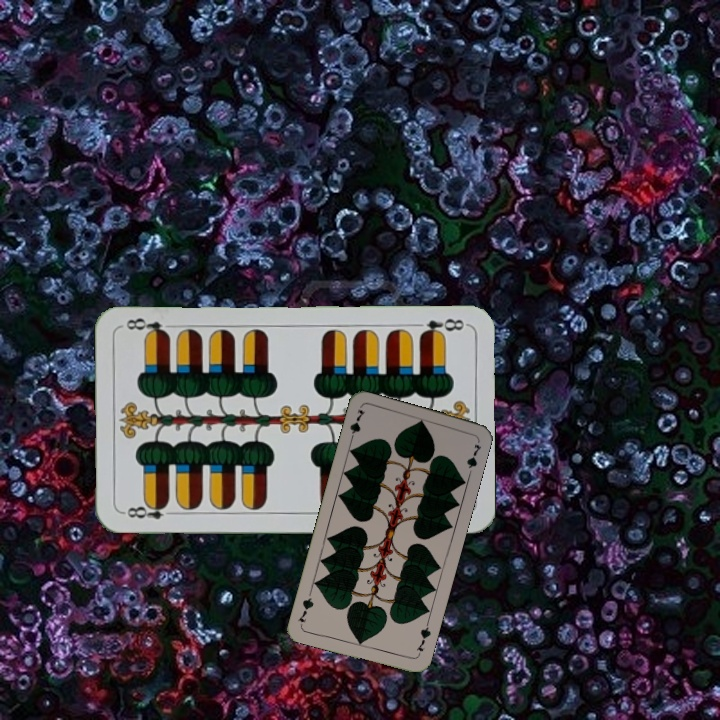E8: (120, 499, 179, 522), (415, 314, 468, 339)
G7: (345, 405, 368, 445), (412, 619, 433, 659)
